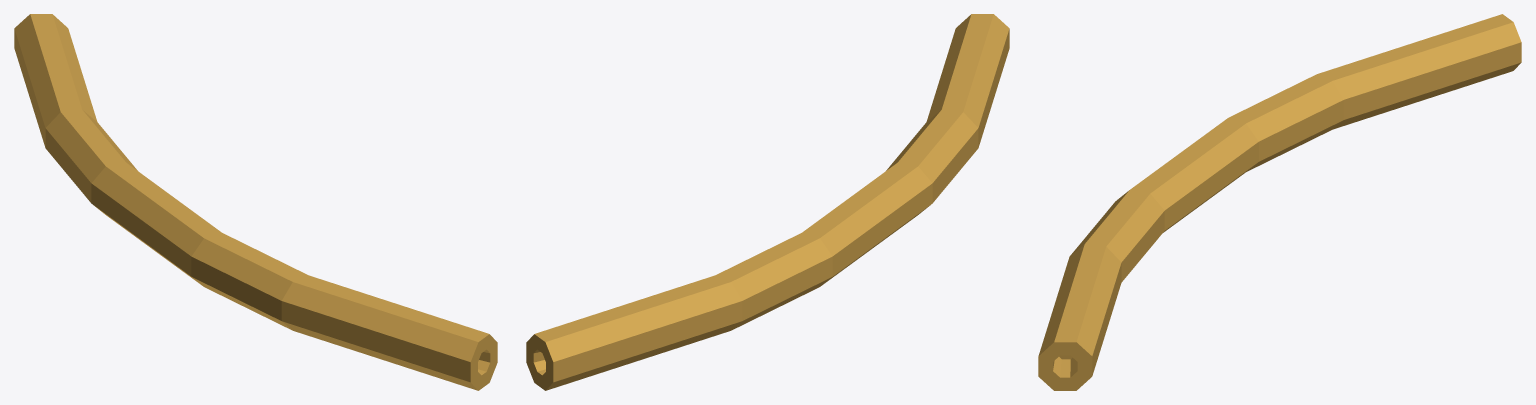
The model's file is SM_Prop_Pool_Float_Noodle_03.fbx.
3 renders of one model, left to right at view 1: azimuth 30°, elevation 25°; view 2: azimuth 150°, elevation 25°; view 3: azimuth 330°, elevation 25°, orthographic.
Visible parts, largest first — view 1: SM_Prop_Pool_Float_Noodle_03; view 2: SM_Prop_Pool_Float_Noodle_03; view 3: SM_Prop_Pool_Float_Noodle_03.
Part boxes in pixels (x1=…): SM_Prop_Pool_Float_Noodle_03: x1=14, y1=14, x2=497, y2=390; SM_Prop_Pool_Float_Noodle_03: x1=526, y1=14, x2=1009, y2=390; SM_Prop_Pool_Float_Noodle_03: x1=1038, y1=14, x2=1521, y2=390.
Bounding box in the file's own units: 47.96 × 15.81 × 268.
